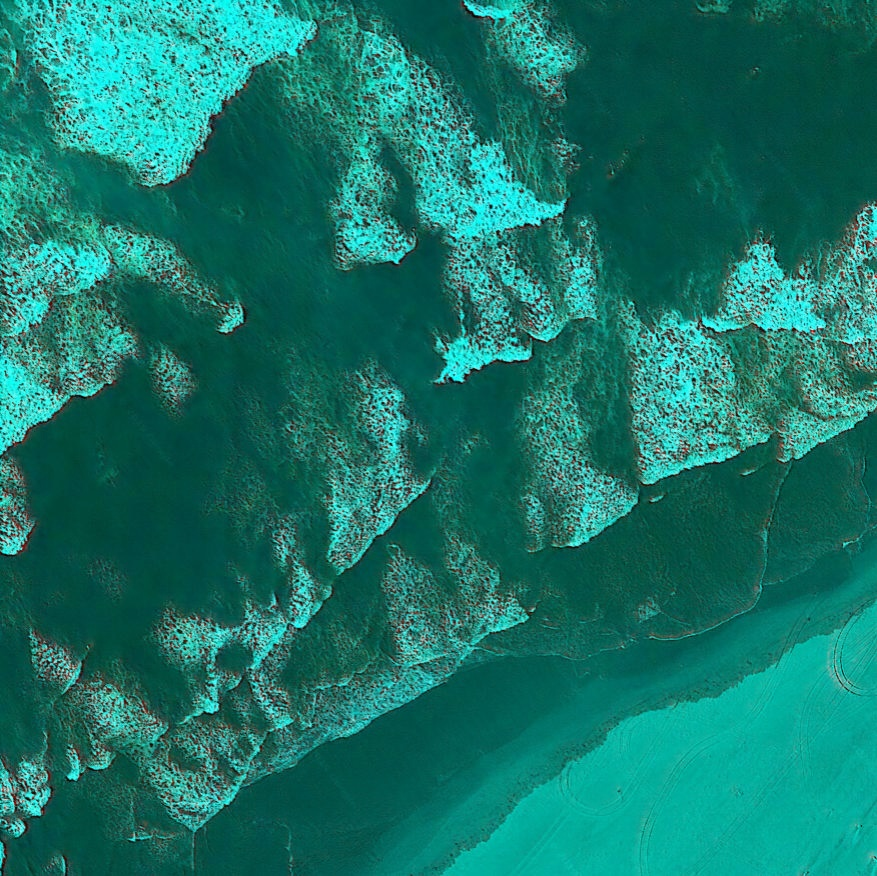rip_current: (249, 185, 651, 615)
